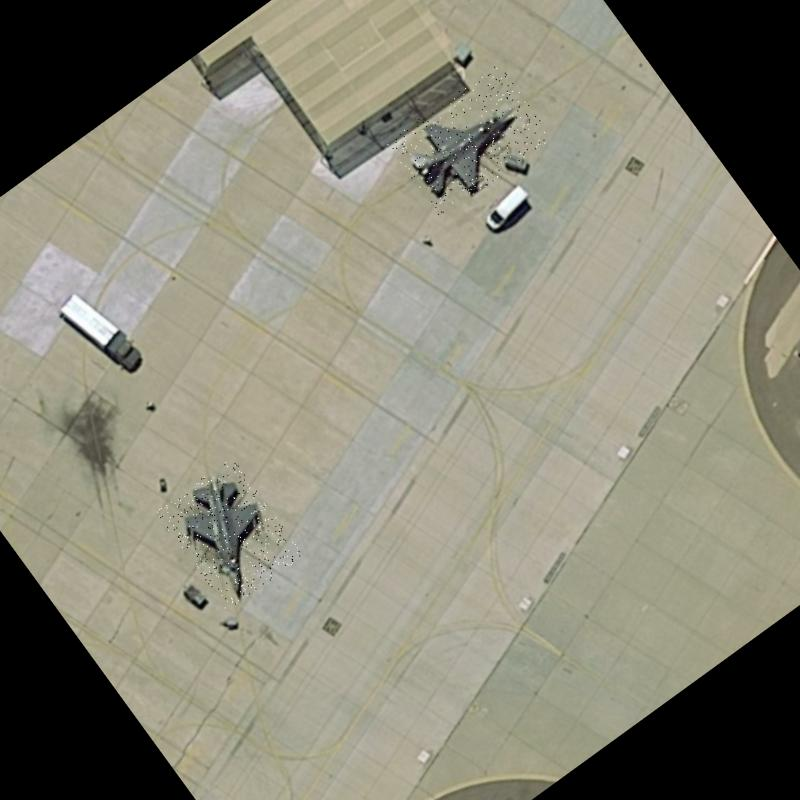A5: (386, 61, 552, 218), (155, 456, 304, 611)
